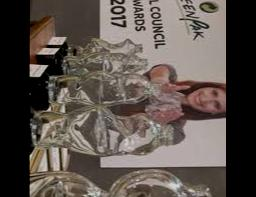Plastic: (30, 108, 176, 157), (30, 167, 213, 196), (46, 72, 160, 108), (58, 53, 152, 80), (62, 36, 146, 62)
